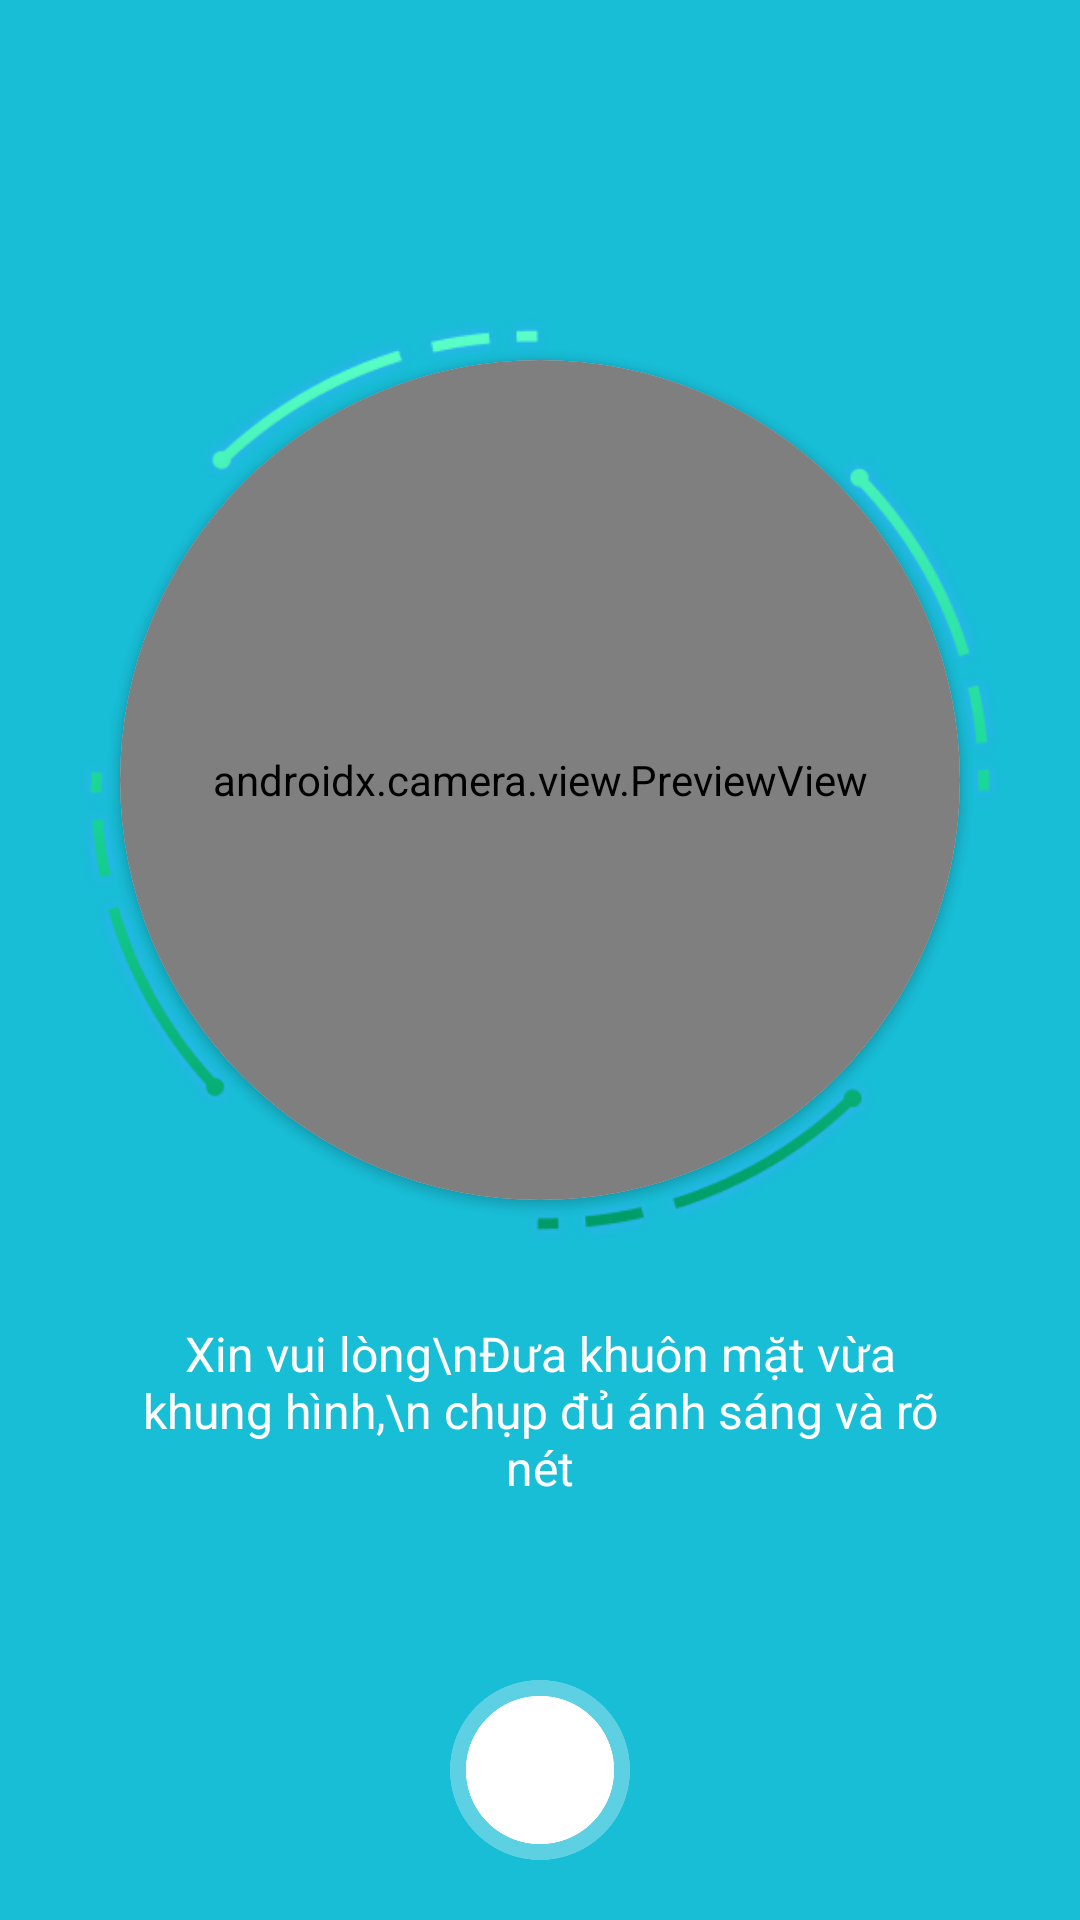

Icons on this 1080px×1920px Android screen, each with the point to tap as [x,y]:
capture: [540,1770]
